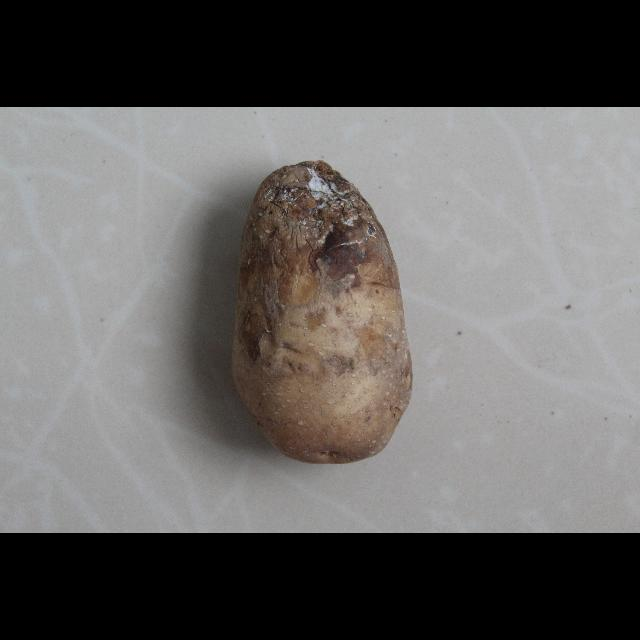Diseased-fungal potato: (226, 170, 418, 482)
